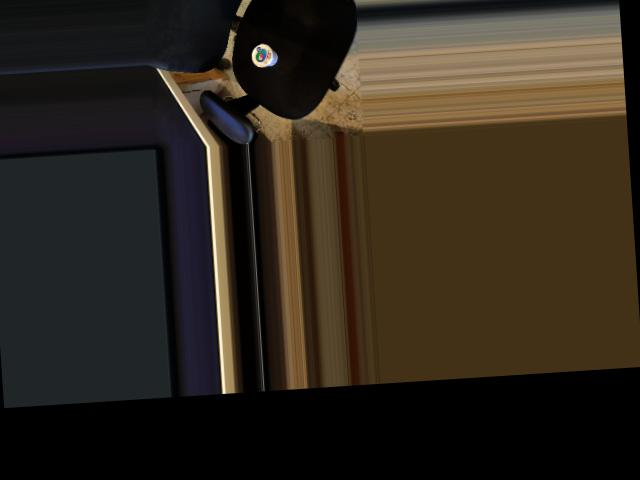cotage: (249, 37, 284, 69)
